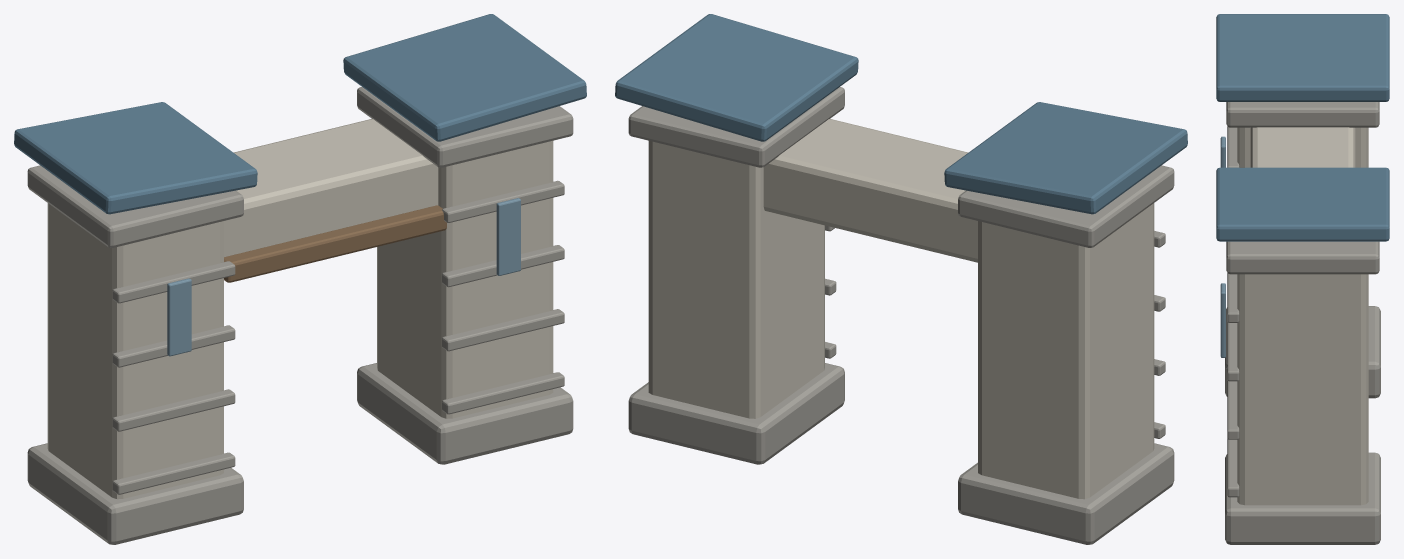
File: Valoria_Authored_Gate_v1.glb
The picture shows the model from 3 angles, left to right: view 1: azimuth 30°, elevation 25°; view 2: azimuth 150°, elevation 25°; view 3: azimuth 270°, elevation 25°; orthographic projection. The views are drawn at different scales.
Parts seen in each view (by area): view 1: pier_-1.72, pier_1.72, lintel, hood_1.72, hood_-1.72, foot_1.72, foot_-1.72, pier_cap_-1.72, pier_cap_1.72, timber_crossbrace, pier_course_-1.72_1.18, pier_course_-1.72_0.55 (+8 smaller); view 2: pier_-1.72, pier_1.72, lintel, hood_1.72, hood_-1.72, foot_1.72, foot_-1.72, pier_cap_-1.72, pier_cap_1.72; view 3: pier_1.72, hood_-1.72, hood_1.72, foot_1.72, pier_cap_1.72, lintel, pier_cap_-1.72, foot_-1.72, pier_-1.72, pier_course_1.72_1.18, pier_course_1.72_1.82, pier_course_1.72_0.55 (+3 smaller).
Boxes of the visible parts, bbox=[...] form: pier_-1.72: bbox=[47, 203, 223, 499]; pier_1.72: bbox=[377, 140, 553, 418]; lintel: bbox=[224, 119, 438, 257]; hood_1.72: bbox=[343, 14, 586, 141]; hood_-1.72: bbox=[14, 102, 257, 214]; foot_1.72: bbox=[357, 363, 573, 464]; foot_-1.72: bbox=[27, 443, 243, 544]; pier_cap_-1.72: bbox=[27, 165, 243, 247]; pier_cap_1.72: bbox=[357, 87, 573, 167]; timber_crossbrace: bbox=[224, 205, 446, 282]; pier_course_-1.72_1.18: bbox=[112, 389, 235, 431]; pier_course_-1.72_0.55: bbox=[112, 452, 235, 494]; pier_-1.72: bbox=[978, 203, 1154, 499]; pier_1.72: bbox=[648, 140, 824, 418]; lintel: bbox=[763, 119, 977, 262]; hood_1.72: bbox=[615, 14, 858, 141]; hood_-1.72: bbox=[944, 102, 1187, 214]; foot_1.72: bbox=[628, 363, 844, 464]; foot_-1.72: bbox=[958, 443, 1174, 544]; pier_cap_-1.72: bbox=[958, 165, 1174, 247]; pier_cap_1.72: bbox=[628, 87, 844, 167]; pier_1.72: bbox=[1237, 274, 1368, 505]; hood_-1.72: bbox=[1216, 14, 1389, 101]; hood_1.72: bbox=[1216, 167, 1389, 241]; foot_1.72: bbox=[1225, 452, 1380, 544]; pier_cap_1.72: bbox=[1226, 241, 1379, 274]; lintel: bbox=[1250, 127, 1355, 167]; pier_cap_-1.72: bbox=[1226, 102, 1379, 127]; foot_-1.72: bbox=[1225, 306, 1380, 398]; pier_-1.72: bbox=[1237, 127, 1368, 167]; pier_course_1.72_1.18: bbox=[1227, 380, 1239, 439]; pier_course_1.72_1.82: bbox=[1227, 322, 1239, 381]; pier_course_1.72_0.55: bbox=[1227, 438, 1239, 497].
Size of the model in its own units: 5.02 by 3.55 by 1.72.
